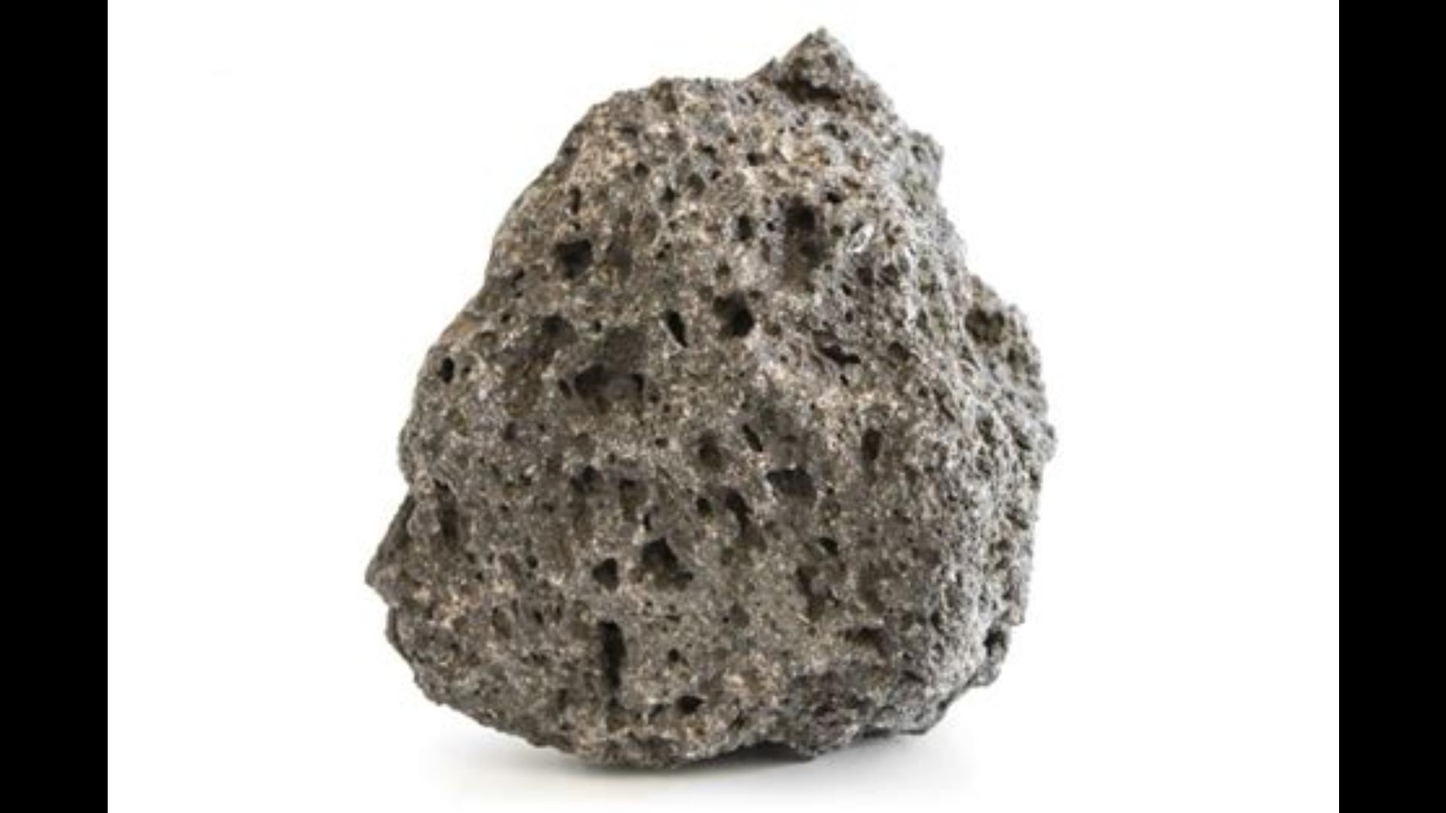rock: (367, 36, 1050, 764)
